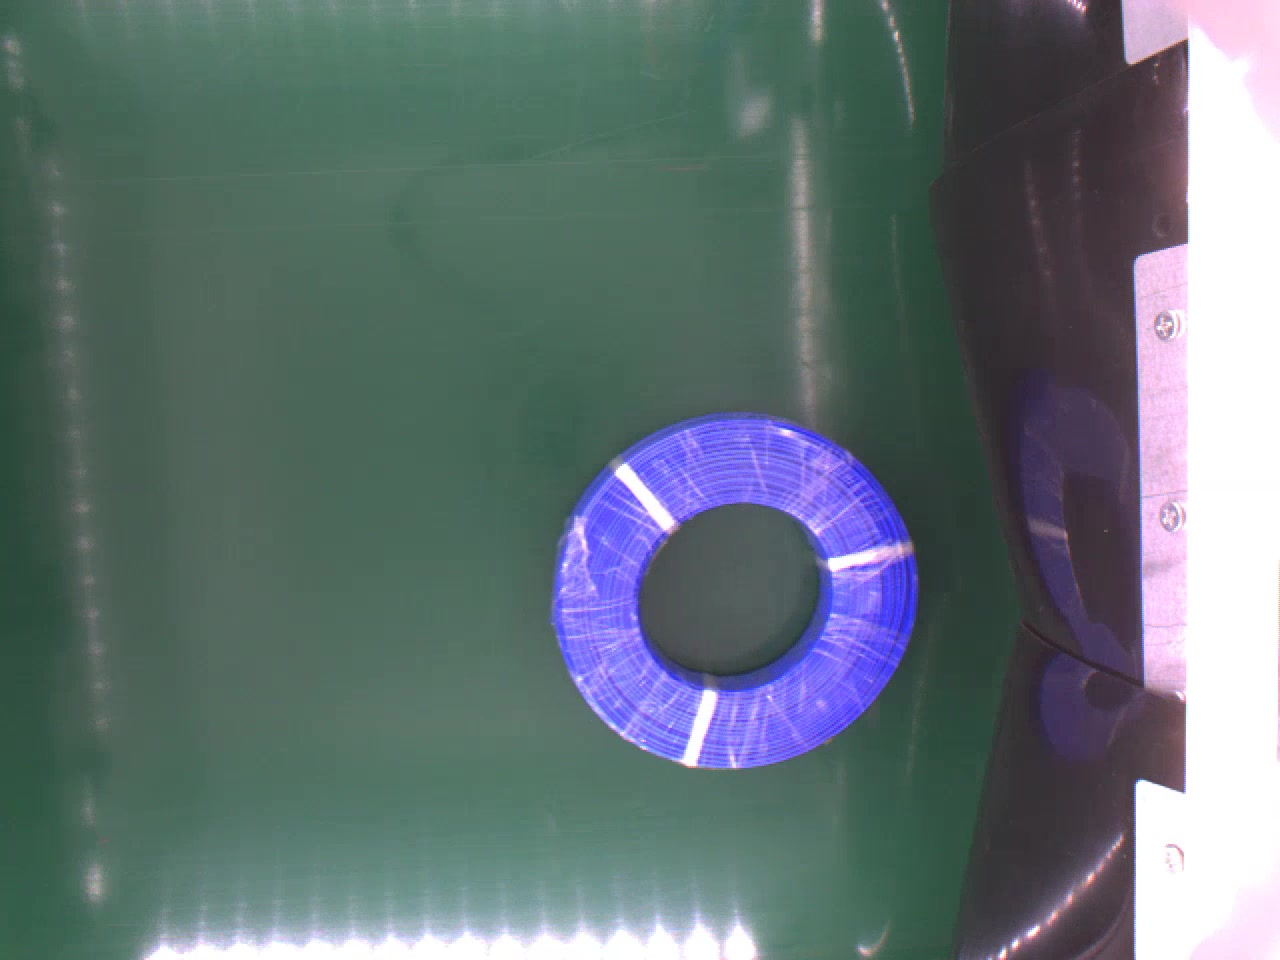blue: (545, 408, 921, 774)
